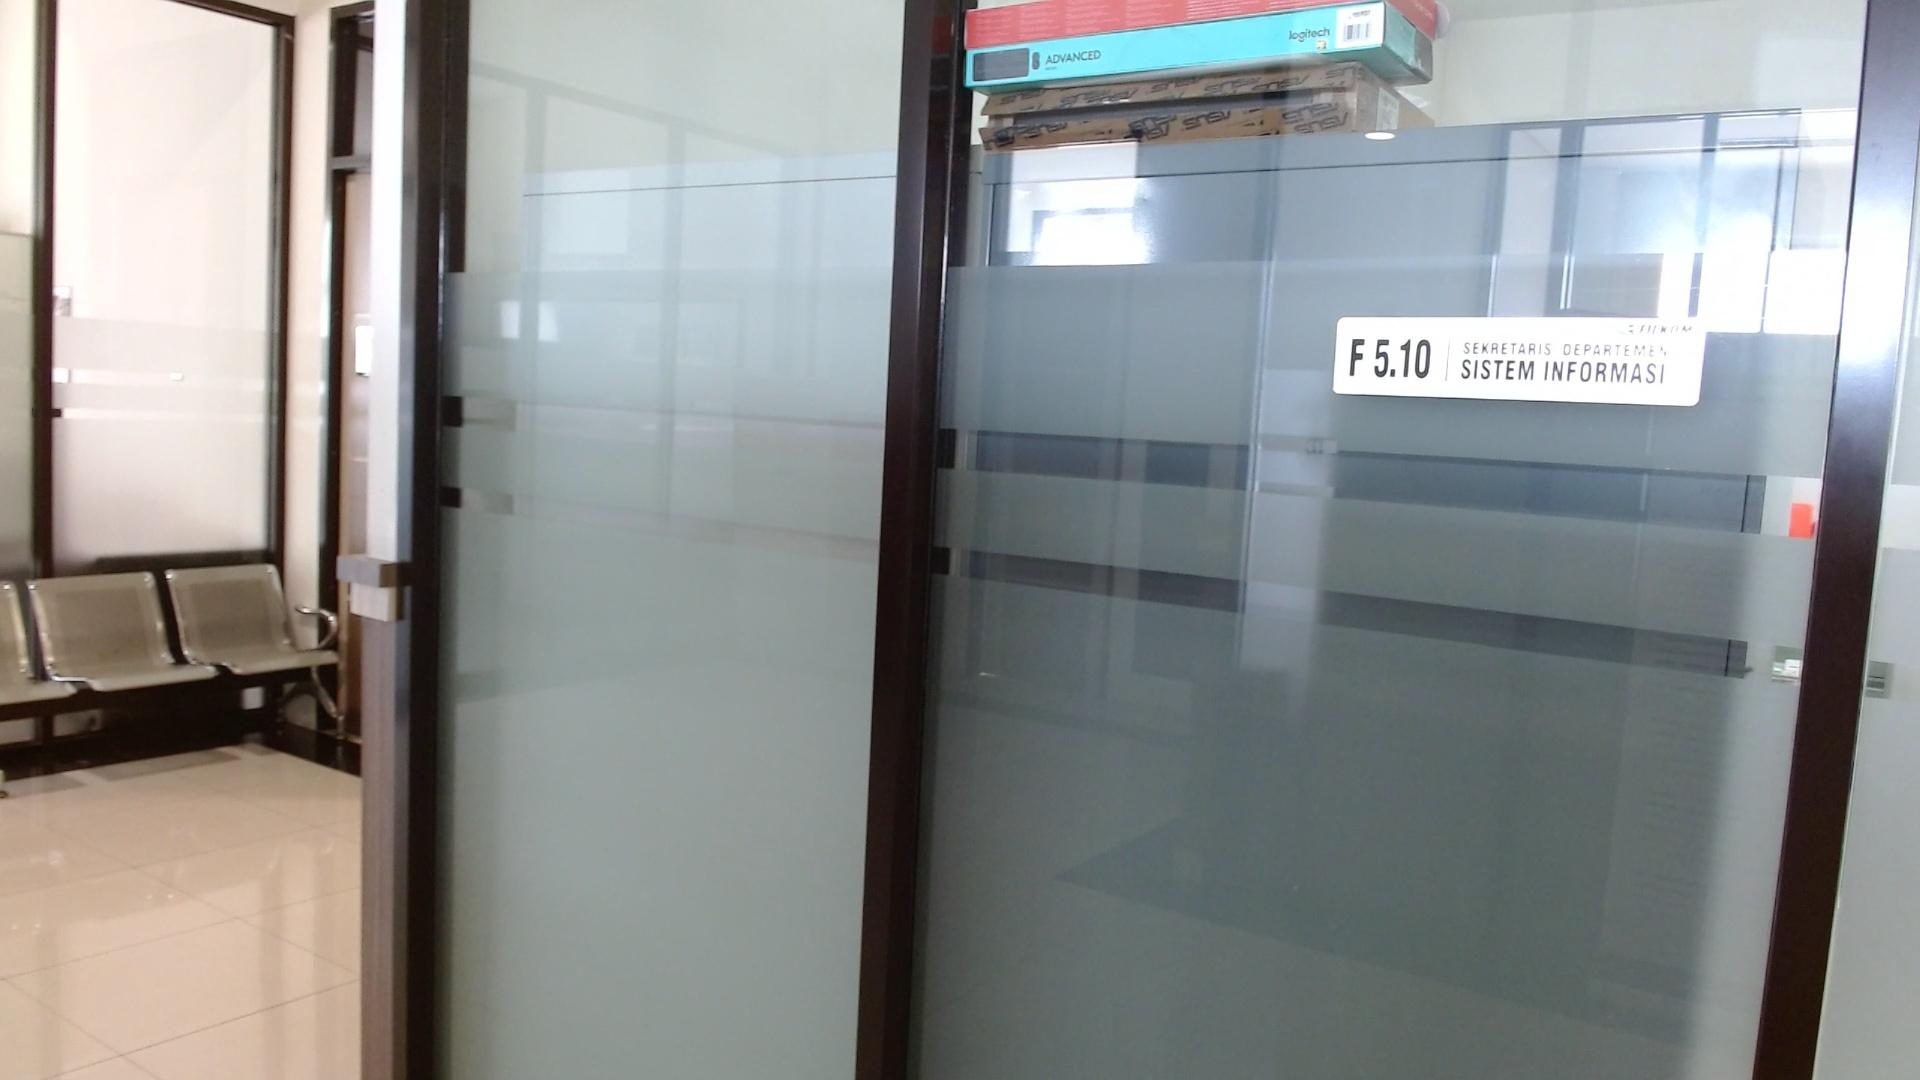plate: (1333, 315, 1709, 409)
